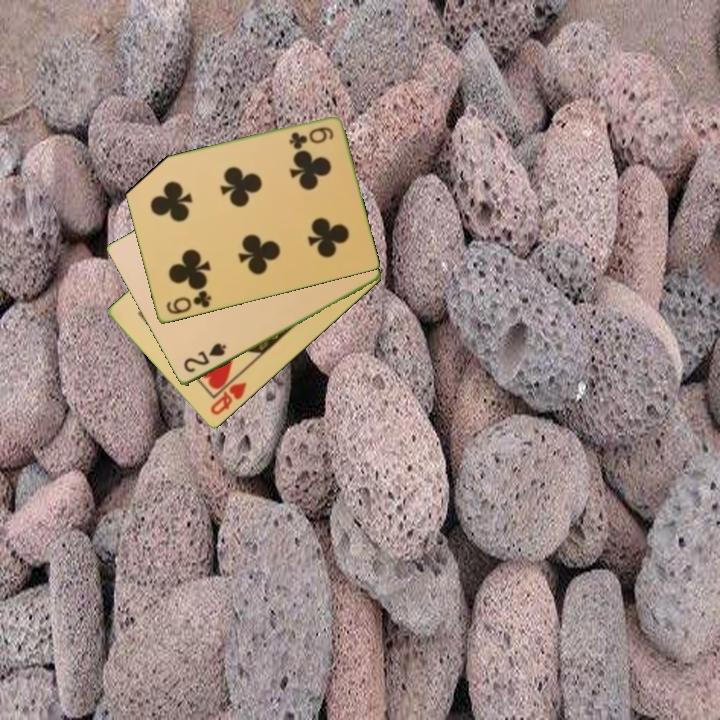2s: (180, 340, 229, 376)
6c: (163, 287, 214, 317), (285, 124, 336, 151)
Qh: (207, 379, 250, 419)
